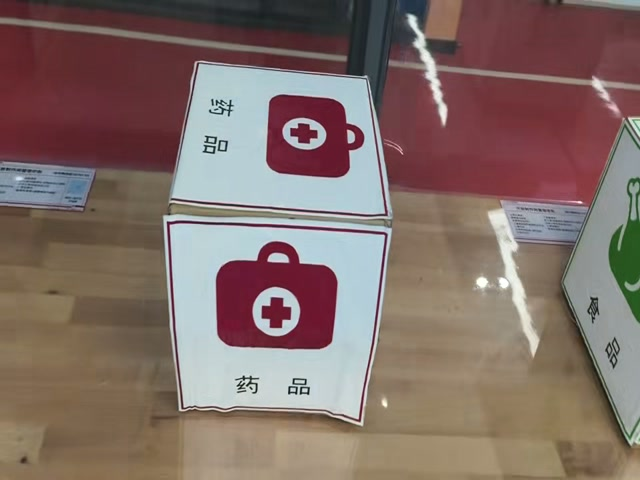Cube_medicine: (164, 56, 392, 229)
